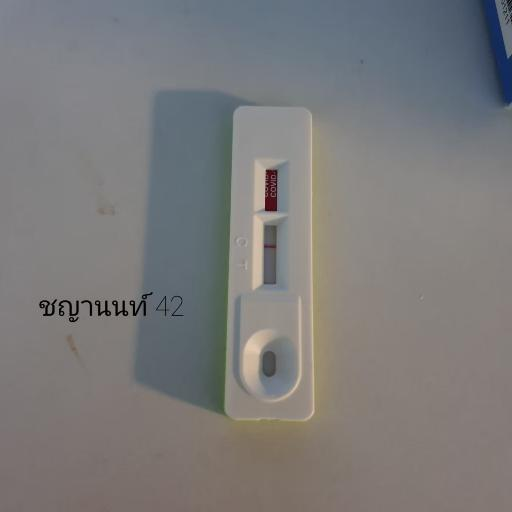Neg: (223, 104, 315, 424)
